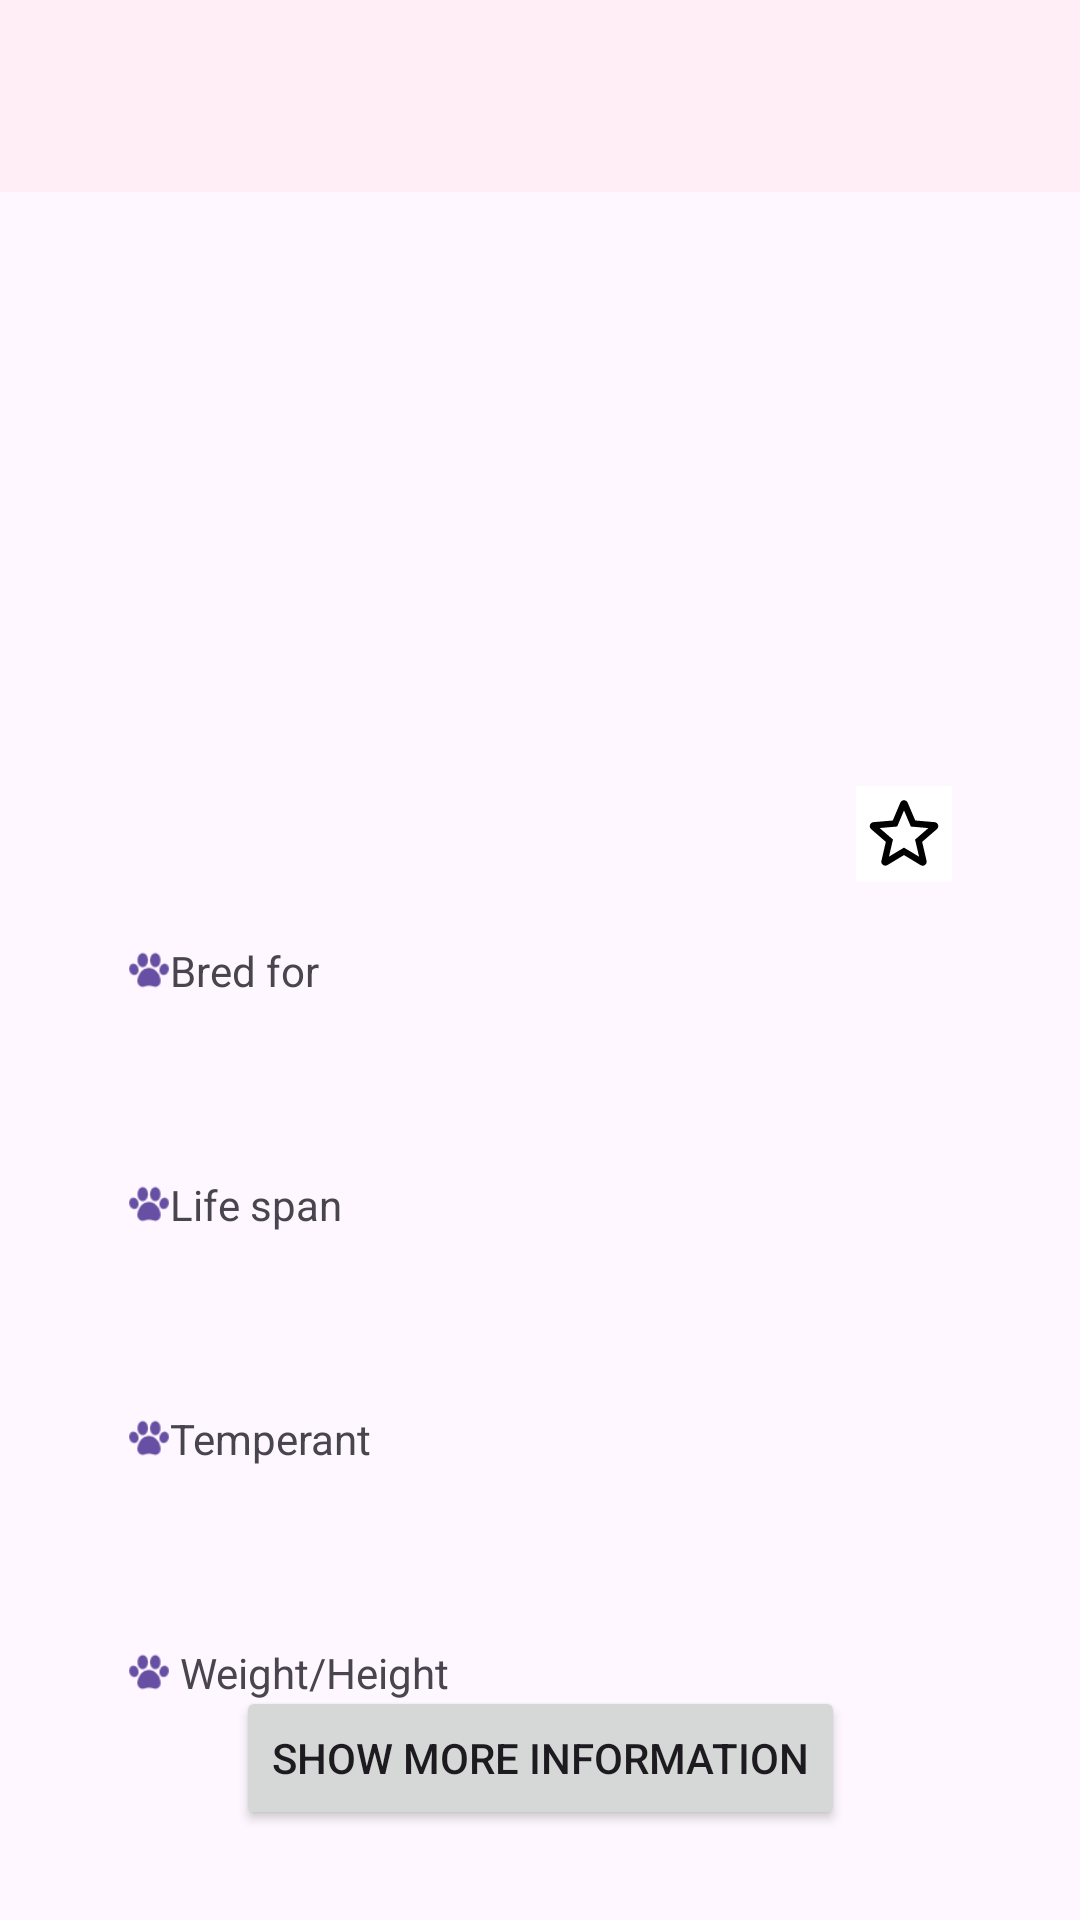

Screen size 1080*1920. Icon name, then its center in pixels as (x,y):
Bookmark Button: (904,833)
